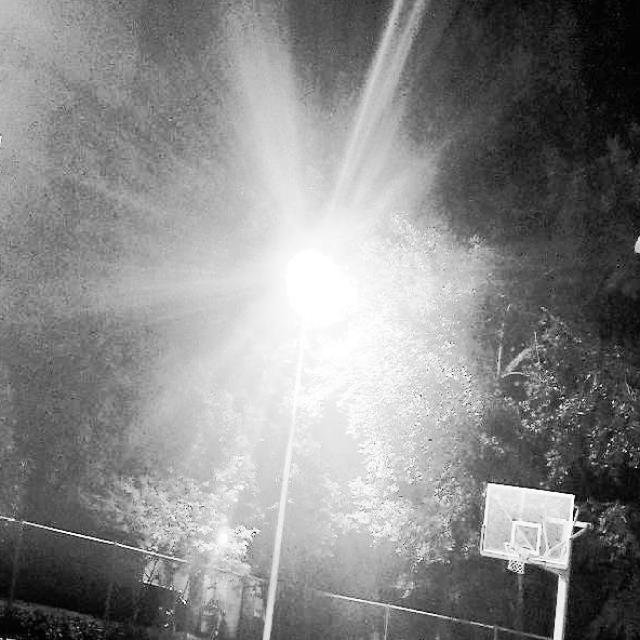Light: (250, 227, 364, 640)
